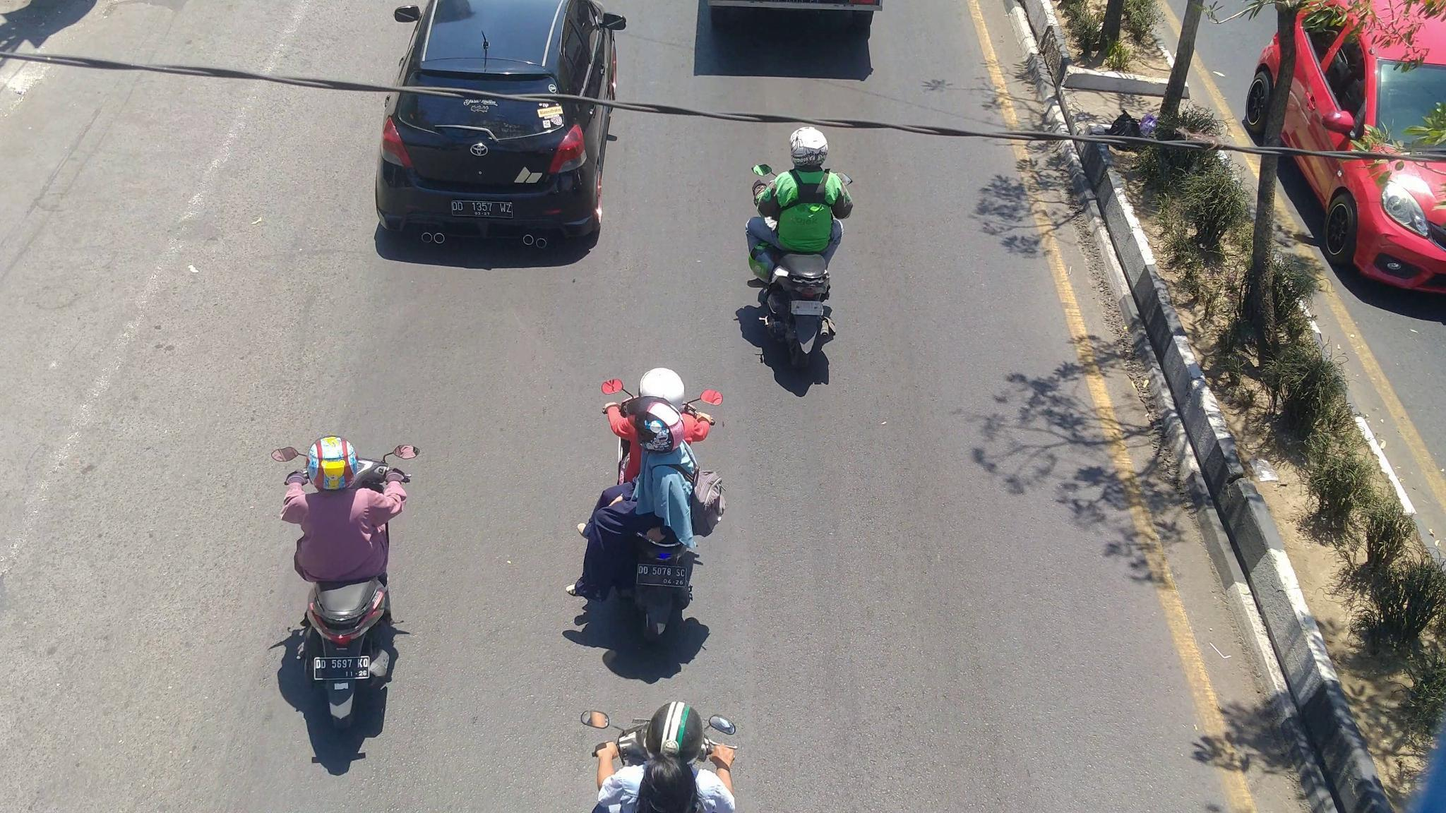Helmet: (297, 423, 362, 505), (642, 700, 715, 765), (624, 392, 687, 454), (634, 363, 694, 412), (785, 121, 835, 174)
bike: (267, 436, 420, 734), (594, 373, 726, 640), (748, 153, 857, 376)
no-helmet: (633, 755, 703, 813)
number-plate: (311, 652, 373, 684), (634, 559, 691, 593), (788, 299, 826, 316)
rider: (574, 392, 728, 594), (280, 431, 409, 587), (745, 123, 855, 287), (596, 360, 716, 481)
